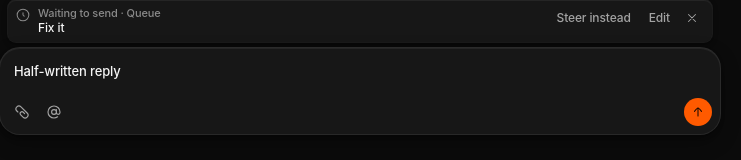
Test: message edit › leaves the mission draft untouched through begin and cancel
The width and height of the screenshot is (741, 160).
Click the button "Edit": x=659, y=18 top-left (641, 6), bottom-right (678, 30)
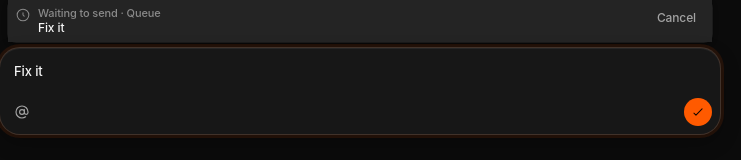
expect the text box with test id "composer-input" holds "Fix it": met, box top-left (14, 60), bottom-right (712, 84)
Click the button "Cancel": x=676, y=18 top-left (649, 6), bottom-right (704, 30)
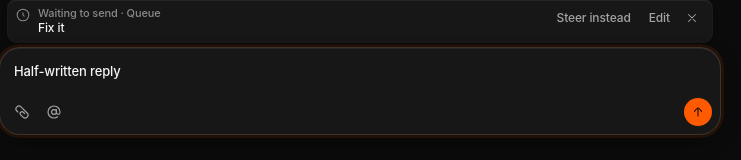
expect the text box with test id "composer-input" holds "Half-written reply": met, box top-left (14, 60), bottom-right (712, 84)
